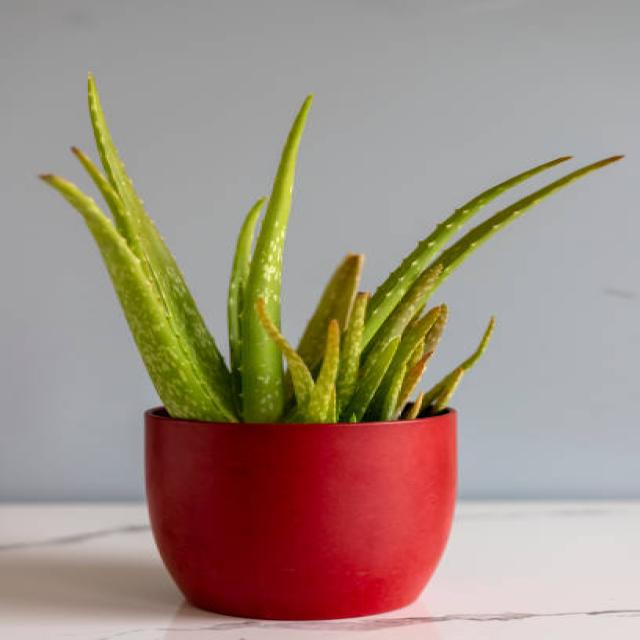AloeVera: (53, 105, 550, 614)
